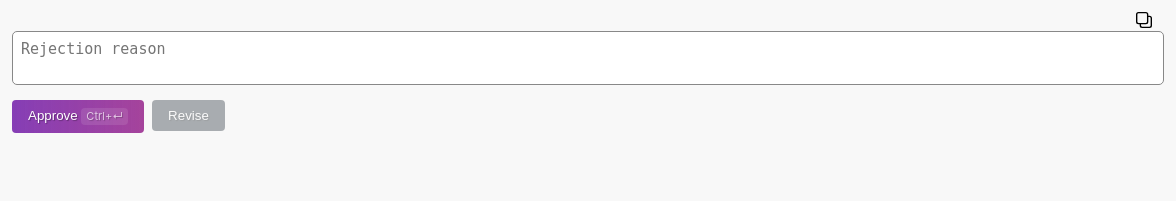
Scenario: UserRequest › displays generic error message when API returns non-JSON error
Click approve button
Step 1. Click the button with class "cta-button-color" → (78, 116), box left=12, top=100, right=144, bottom=133
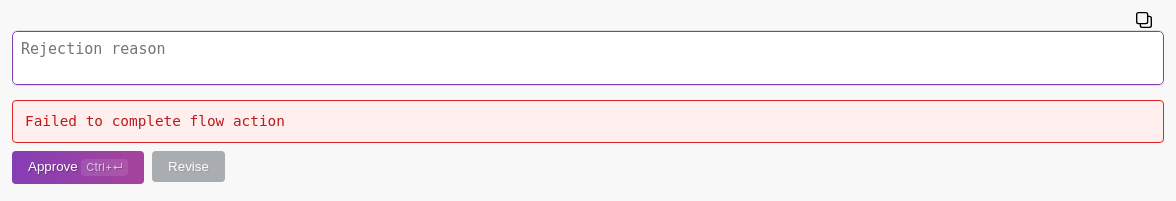
expect the text "Failed to complete flow action" is shown: met, box left=12, top=100, right=1164, bottom=143
expect the text with class "error-message" reads "Failed to complete flow action": met, box left=25, top=113, right=285, bottom=129
